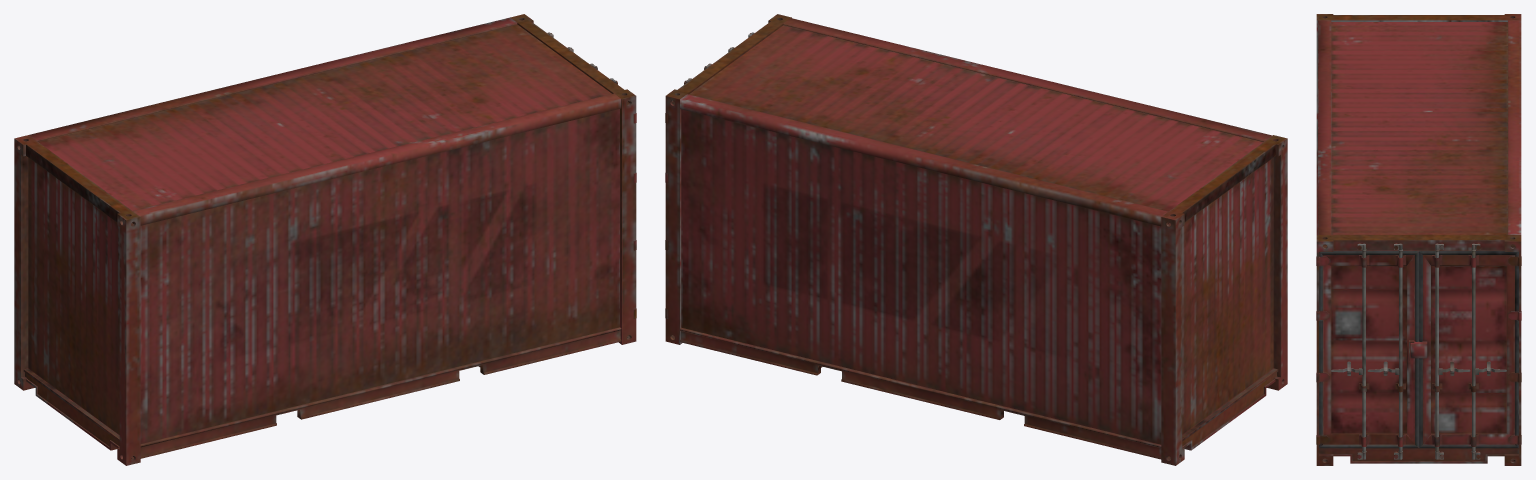
Rendered from container_20_old.glb.
The picture shows the model from 3 angles, left to right: view 1: azimuth 30°, elevation 25°; view 2: azimuth 150°, elevation 25°; view 3: azimuth 270°, elevation 25°; orthographic projection. The views are drawn at different scales.
Visible parts, largest first — view 1: container_20_old; view 2: container_20_old; view 3: container_20_old.
Boxes of the visible parts, box(x1,y1,x2,y2) form: container_20_old: box(14, 14, 636, 465); container_20_old: box(665, 14, 1287, 465); container_20_old: box(1316, 14, 1521, 465).
Bounding box in the file's own units: 6.06 × 2.77 × 2.29.
Materials: 1 (1 with a texture image).
